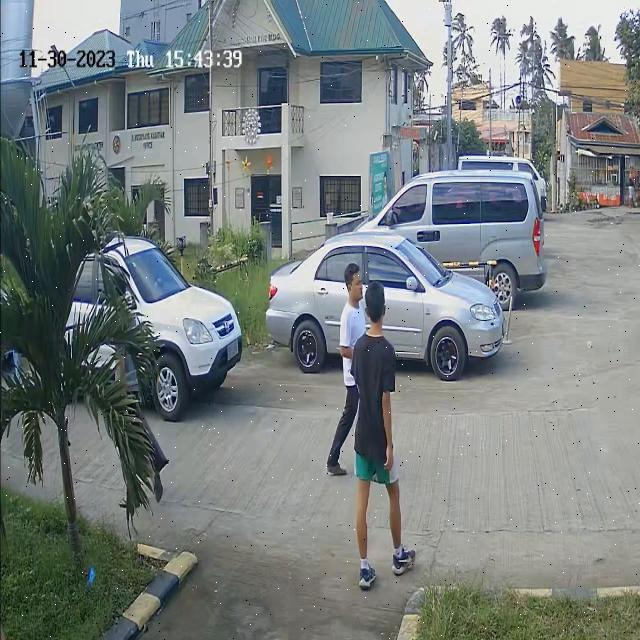human: (354, 278, 417, 598), (324, 252, 368, 476)
